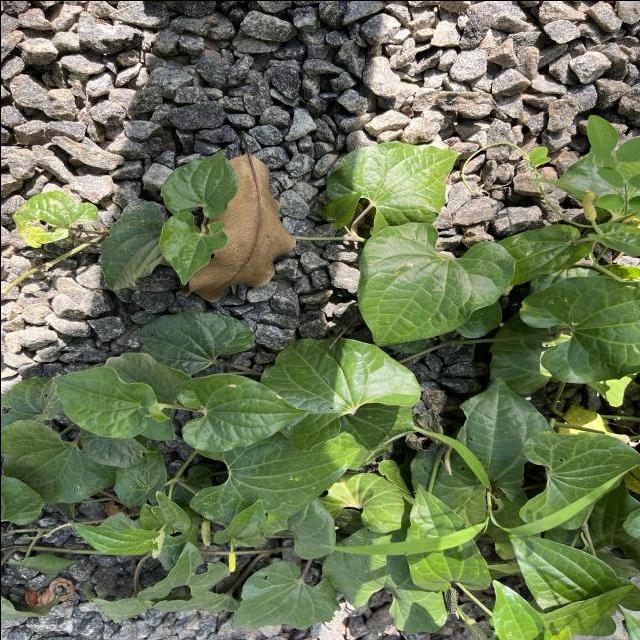Piper longum: (354, 220, 517, 348), (258, 334, 422, 454), (322, 140, 464, 224), (175, 370, 310, 452), (49, 364, 157, 438), (158, 146, 240, 220), (156, 210, 228, 286)
